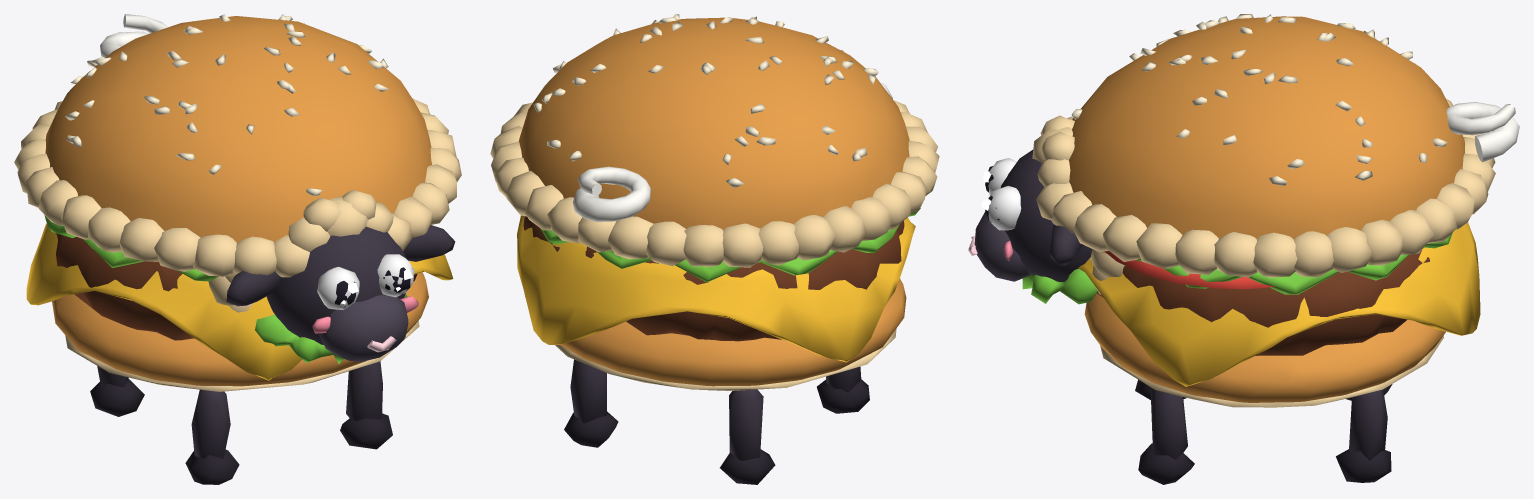
File: burgersau_lav.glb
The picture shows the model from 3 angles, left to right: view 1: azimuth 30°, elevation 25°; view 2: azimuth 150°, elevation 25°; view 3: azimuth 270°, elevation 25°; orthographic projection. The views are drawn at different scales.
Parts seen in each view (by area): view 1: kropp, hode, bein_vf, bein_hf, bein_vb, hale; view 2: kropp, bein_vb, hale, bein_hb, bein_vf; view 3: kropp, hode, bein_hb, bein_hf, hale.
Boxes of the visible parts, x1,y1,x2,y2 form: kropp: [14, 14, 461, 391]; hode: [226, 190, 455, 363]; bein_vf: [185, 389, 239, 484]; bein_hf: [340, 361, 392, 449]; bein_vb: [90, 366, 144, 416]; hale: [100, 14, 168, 57]; kropp: [490, 14, 939, 390]; bein_vb: [720, 389, 775, 484]; hale: [572, 166, 650, 221]; bein_hb: [564, 359, 618, 447]; bein_vf: [817, 366, 869, 413]; kropp: [1036, 14, 1495, 407]; hode: [968, 115, 1097, 304]; bein_hb: [1336, 389, 1391, 482]; bein_hf: [1138, 389, 1194, 484]; hale: [1446, 102, 1519, 162].
Bounding box in the file's own units: 1.21 × 1.15 × 1.44.
